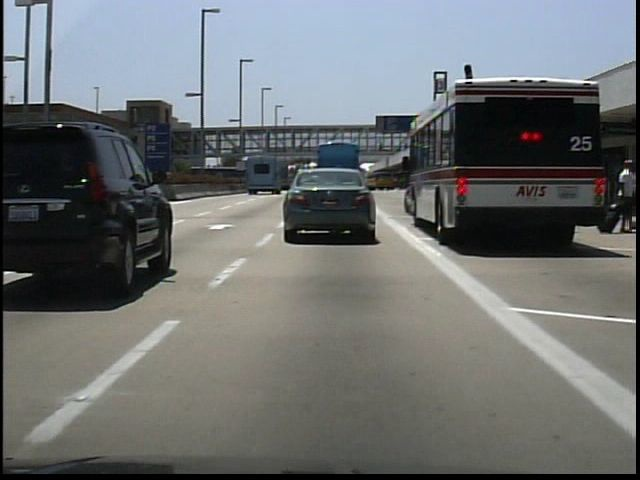person: (610, 152, 637, 238), (376, 137, 389, 157)
